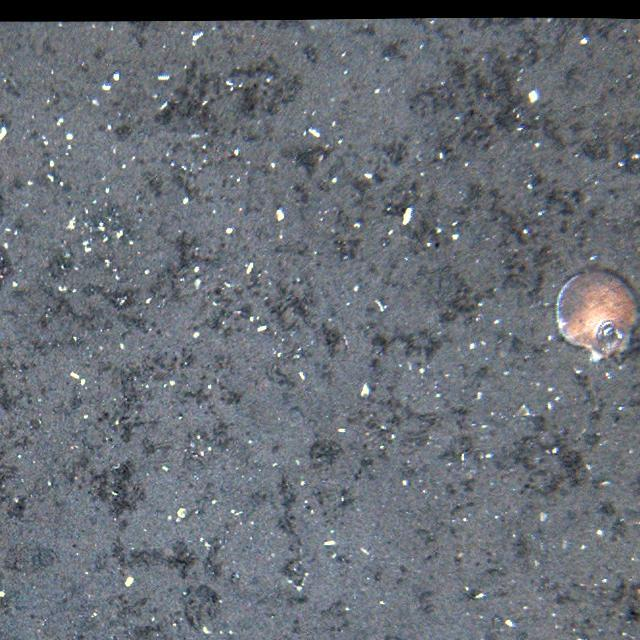scallop: (558, 267, 640, 365)
